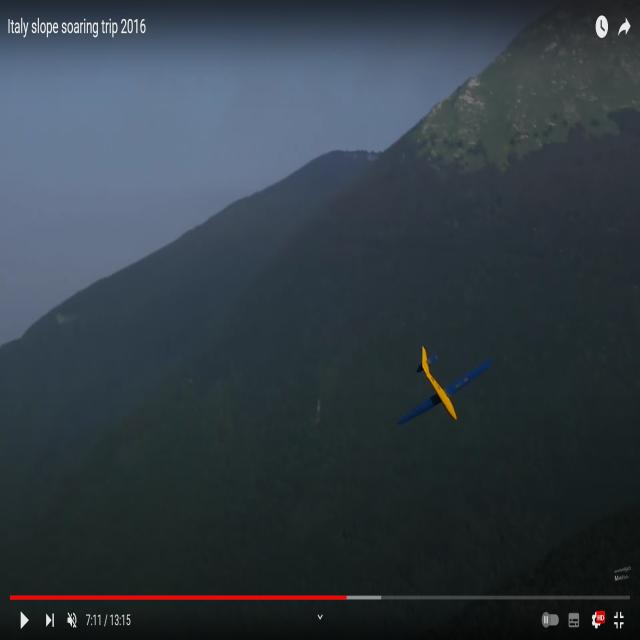iha: (429, 377, 462, 392)
